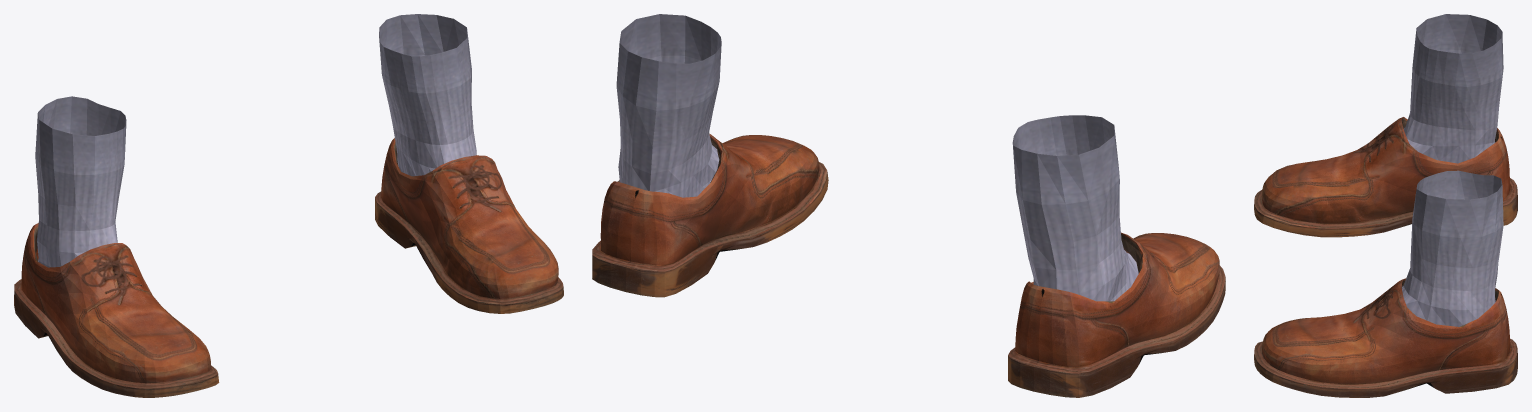
Rendered from shoes.obj.
3 renders of one model, left to right at view 1: azimuth 30°, elevation 25°; view 2: azimuth 150°, elevation 25°; view 3: azimuth 270°, elevation 25°, orthographic. The views are drawn at different scales.
Visible parts, largest first — view 1: shoes; view 2: shoes; view 3: shoes.
Boxes of the visible parts, x1,y1,x2,y2 form: shoes: (14,14,563,397); shoes: (592,14,1225,397); shoes: (1254,14,1517,397).
Bounding box in the file's own units: 50.49 × 21.85 × 27.55.
Materials: 1 (1 with a texture image).
